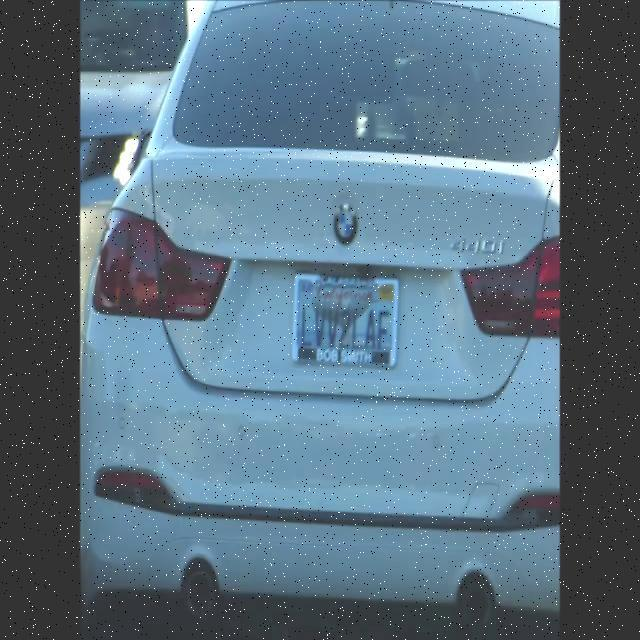LicensePlate: (283, 247, 410, 387)
